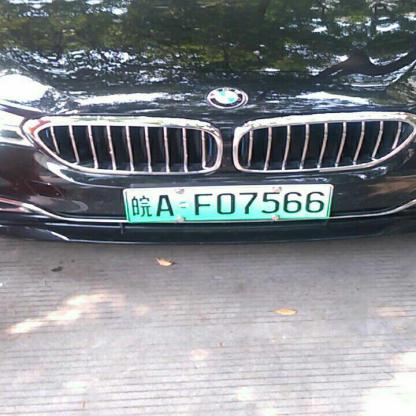lp: (124, 185, 331, 221)
